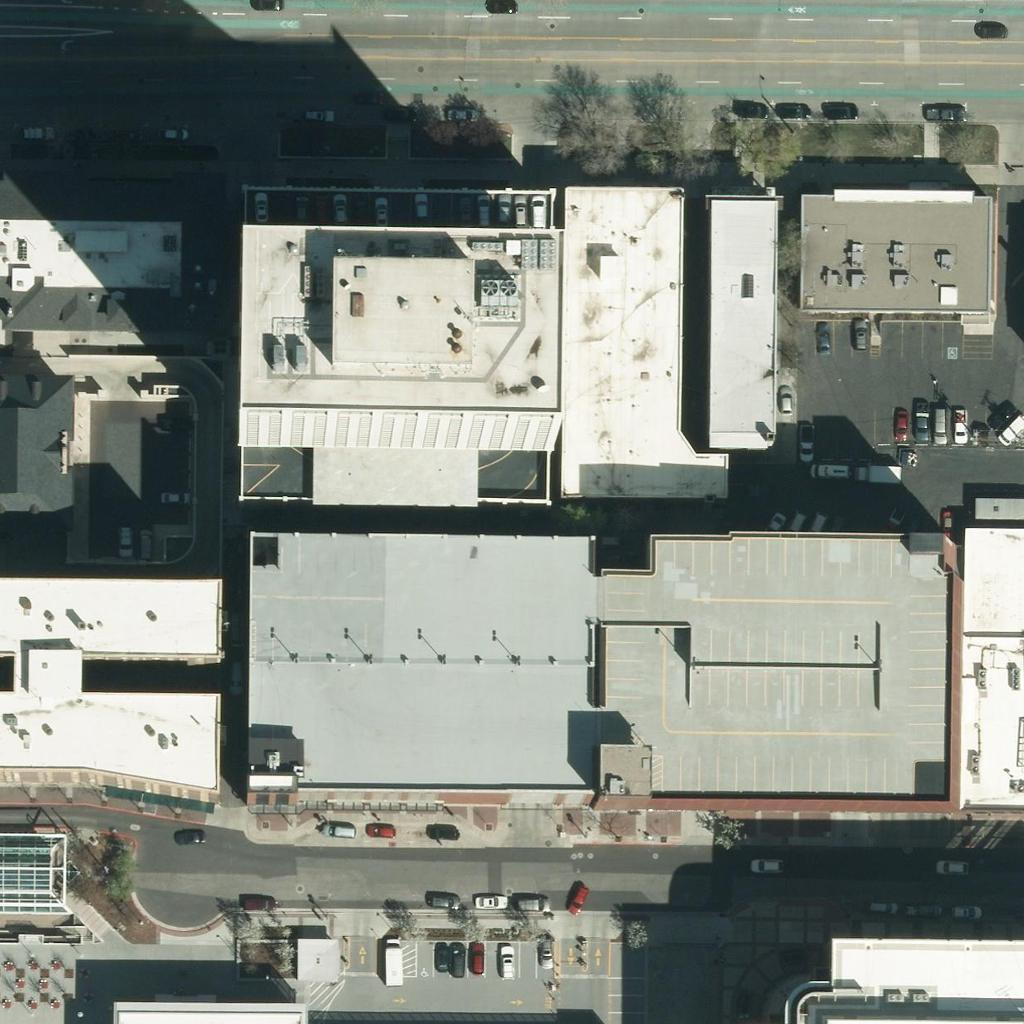car: (973, 13, 1007, 47), (353, 80, 387, 114), (732, 93, 766, 127), (773, 95, 807, 129), (823, 95, 857, 129), (384, 96, 418, 130), (443, 96, 477, 130), (303, 97, 337, 131), (931, 97, 965, 131), (18, 114, 52, 148), (154, 116, 188, 150), (107, 118, 141, 152), (243, 190, 277, 224), (301, 190, 335, 224), (243, 191, 277, 225), (322, 191, 356, 225), (404, 191, 438, 225), (284, 192, 318, 226), (340, 192, 374, 226), (465, 192, 499, 226), (486, 192, 520, 226), (519, 192, 553, 226), (503, 194, 537, 228), (364, 195, 398, 229), (446, 195, 480, 229), (842, 317, 876, 351), (806, 321, 840, 355), (768, 383, 802, 417), (883, 405, 917, 439), (904, 406, 938, 440), (922, 409, 956, 443), (942, 410, 976, 444), (789, 428, 823, 462), (805, 452, 839, 486), (157, 479, 191, 513), (878, 498, 912, 532), (929, 505, 963, 539), (755, 509, 789, 543), (778, 509, 812, 543), (798, 509, 832, 543), (106, 522, 140, 556), (128, 527, 162, 561), (219, 617, 253, 651), (219, 659, 253, 693), (321, 813, 355, 847), (364, 813, 398, 847), (426, 815, 460, 849), (170, 819, 204, 853), (752, 847, 786, 881), (939, 851, 973, 885), (560, 879, 594, 913), (471, 883, 505, 917), (424, 884, 458, 918), (238, 885, 272, 919), (512, 886, 546, 920), (864, 889, 898, 923), (909, 894, 943, 928), (946, 896, 980, 930), (530, 930, 564, 964), (425, 940, 459, 974), (441, 942, 475, 976), (460, 942, 494, 976), (489, 946, 523, 980), (994, 412, 1024, 446), (247, 0, 281, 19), (483, 0, 517, 19)
